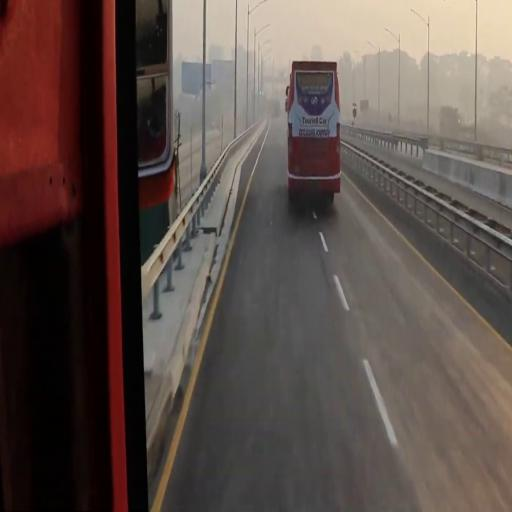bus: (287, 61, 341, 214)
